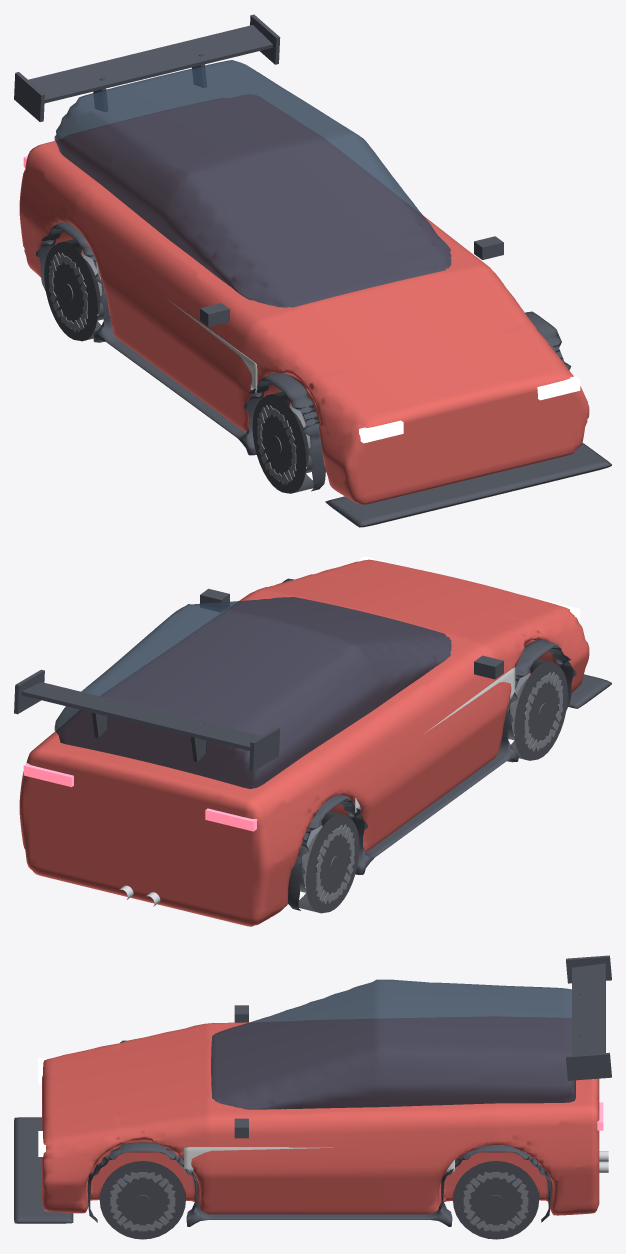
The model's file is apex_tcr.glb.
The picture shows the model from 3 angles, top to bottom: view 1: azimuth 30°, elevation 25°; view 2: azimuth 150°, elevation 25°; view 3: azimuth 270°, elevation 25°; orthographic projection. The views are drawn at different scales.
Visible parts, largest first — view 1: Bodywork, CanopyGlass, CarbonAero (×3), TireRubber, ForgedRim, HeadlightLED; view 2: Bodywork, CanopyGlass, CarbonAero (×3), TireRubber, ForgedRim, TaillightLED, AccentLivery; view 3: Bodywork, CanopyGlass, CarbonAero (×3), TireRubber, ForgedRim, AccentLivery.
Part boxes in pixels (bbox=[...]): Bodywork: bbox=[19, 141, 589, 504]; CanopyGlass: bbox=[54, 60, 451, 307]; CarbonAero (×3): bbox=[14, 14, 611, 527]; TireRubber: bbox=[44, 239, 313, 493]; ForgedRim: bbox=[49, 252, 312, 484]; HeadlightLED: bbox=[359, 376, 580, 443]; Bodywork: bbox=[19, 559, 589, 926]; CanopyGlass: bbox=[54, 597, 451, 788]; CarbonAero (×3): bbox=[14, 578, 611, 910]; TireRubber: bbox=[298, 658, 567, 913]; ForgedRim: bbox=[299, 672, 562, 904]; TaillightLED: bbox=[23, 763, 257, 831]; AccentLivery: bbox=[355, 667, 515, 812]; Bodywork: bbox=[42, 1022, 599, 1215]; CanopyGlass: bbox=[211, 979, 575, 1109]; CarbonAero (×3): bbox=[14, 955, 611, 1226]; TireRubber: bbox=[99, 1161, 539, 1239]; ForgedRim: bbox=[110, 1172, 528, 1231]; AccentLivery: bbox=[184, 1147, 454, 1172].
Size of the model in its own units: 2.21 by 1.53 by 4.57.
